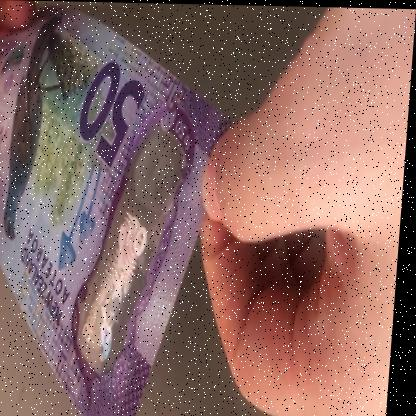50B: (82, 138, 182, 367)
